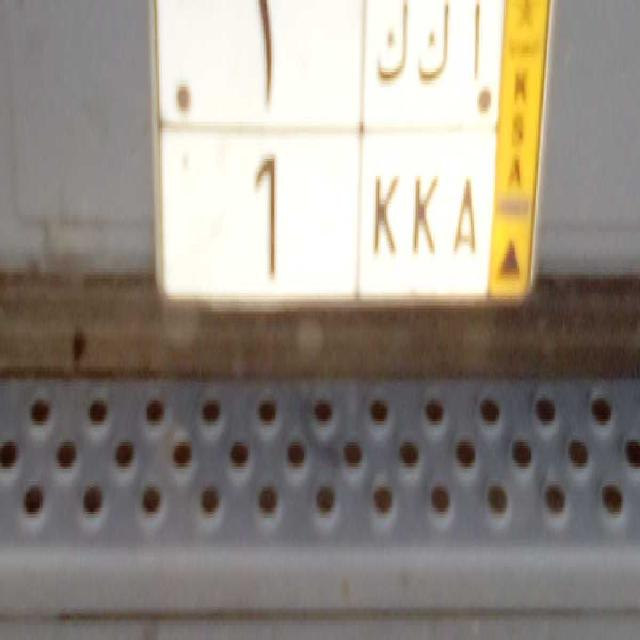license_plate: (154, 118, 490, 301)
